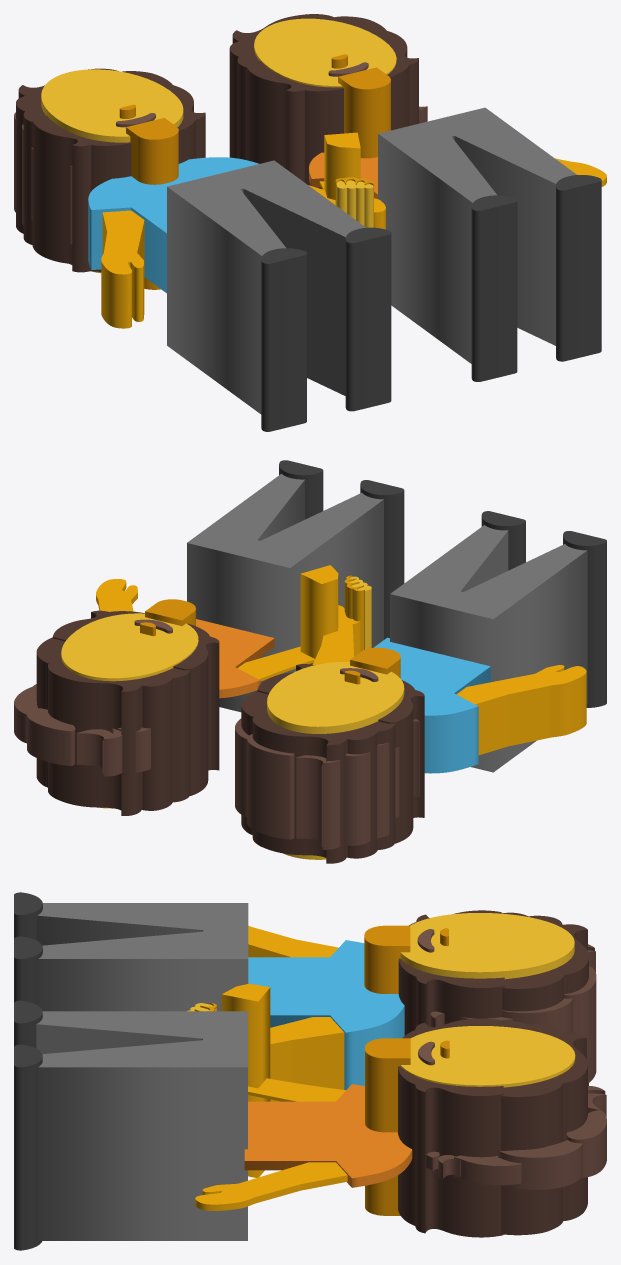
File: emoji_u1f9d1_200d_1f91d_200d_1f9d1.glb
The picture shows the model from 3 angles, top to bottom: view 1: azimuth 30°, elevation 25°; view 2: azimuth 150°, elevation 25°; view 3: azimuth 270°, elevation 25°; orthographic projection. The views are drawn at different scales.
Parts seen in each view (by area): view 1: emoji_u1f9d1_200d_1f91d_200d_1f9d1; view 2: emoji_u1f9d1_200d_1f91d_200d_1f9d1; view 3: emoji_u1f9d1_200d_1f91d_200d_1f9d1.
Part boxes in pixels (x1,y1,x2,y2): emoji_u1f9d1_200d_1f91d_200d_1f9d1: [14, 14, 606, 431]; emoji_u1f9d1_200d_1f91d_200d_1f9d1: [14, 460, 606, 863]; emoji_u1f9d1_200d_1f91d_200d_1f9d1: [14, 892, 606, 1250].
Size of the model in its own units: 0.0346 by 0.0114 by 0.0335.
